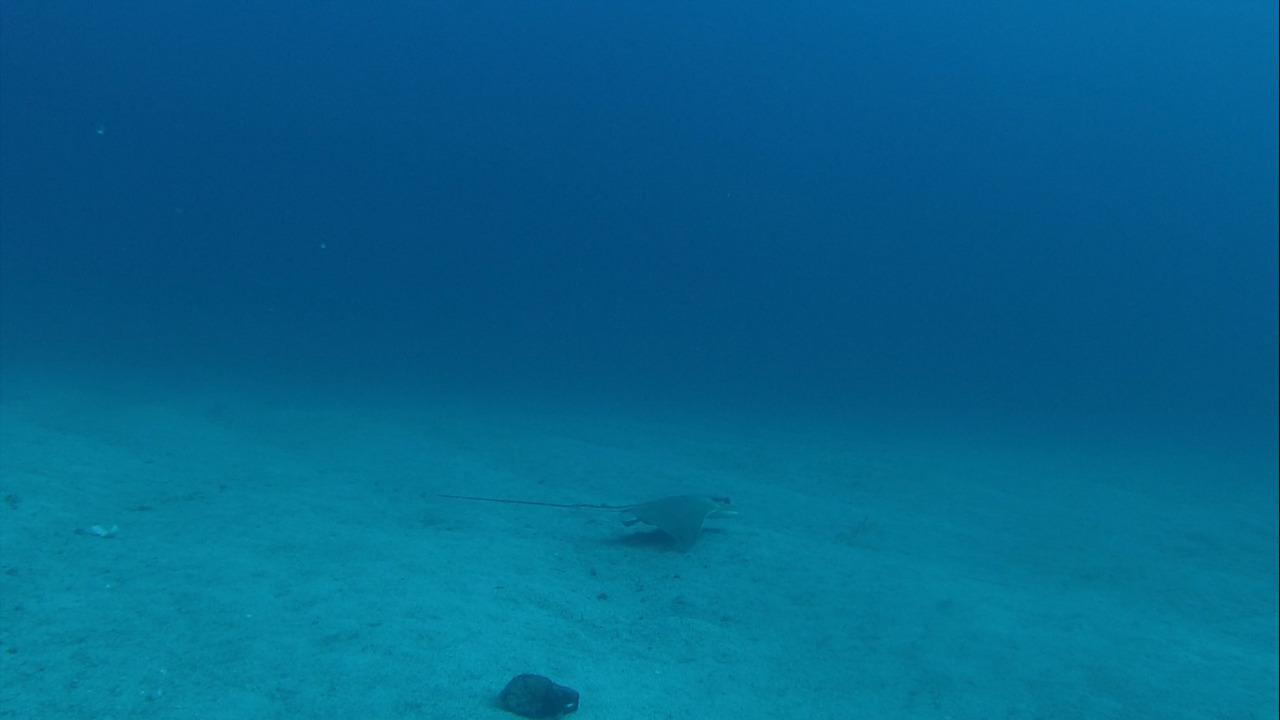myliobatis: (435, 478, 740, 550)
